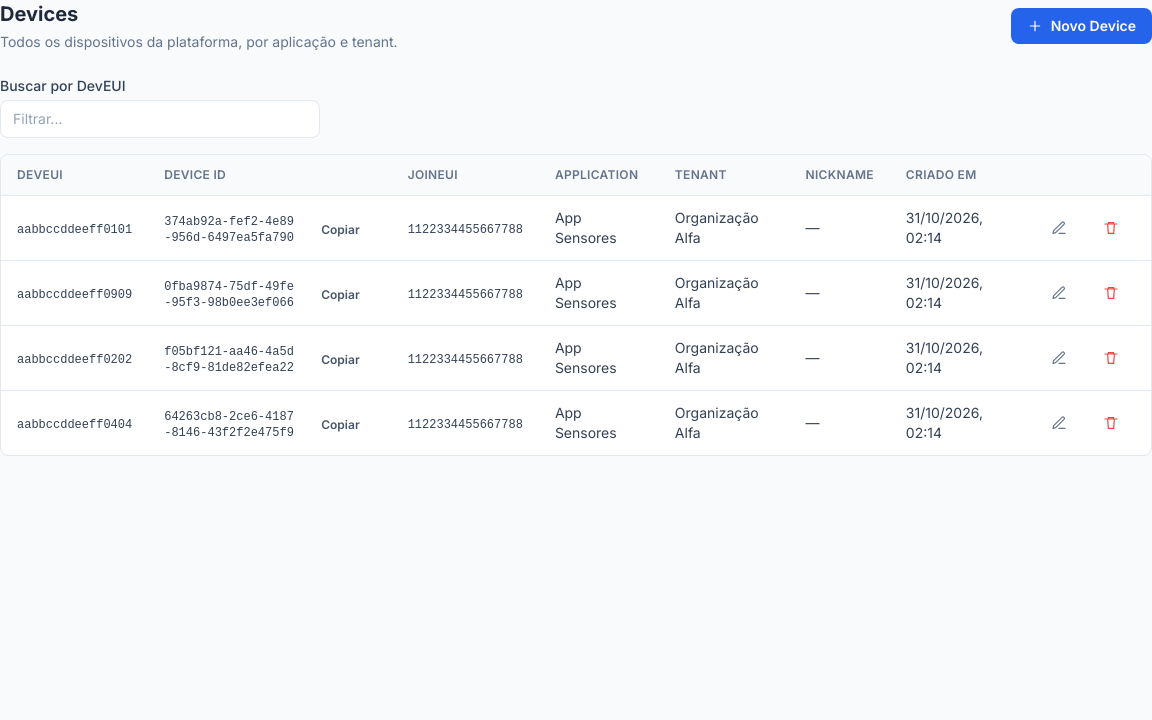
DeviceListPage › surfaces an error when deleting a device fails
Check: the text "aabbccddeeff0404" is shown, box [17, 418, 132, 432]
Click the button named "Excluir device aabbccddeeff0404": (1111, 423) [1087, 407, 1135, 439]
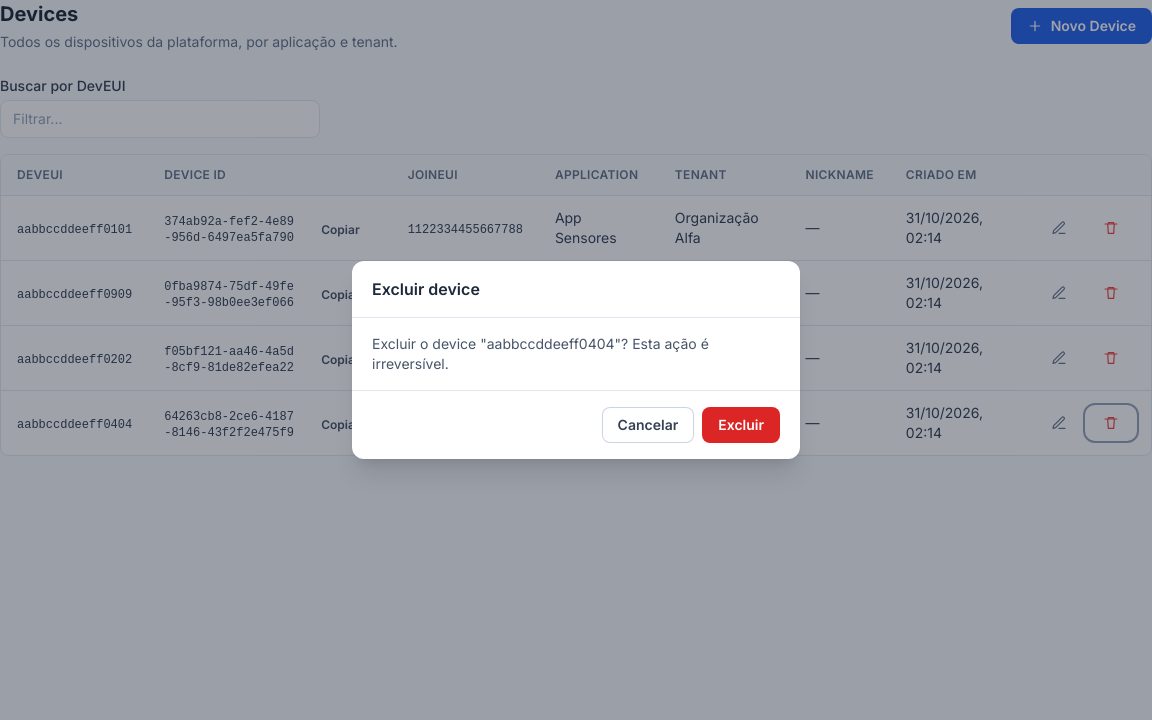
Click the button "Excluir": (741, 425) [702, 407, 780, 443]
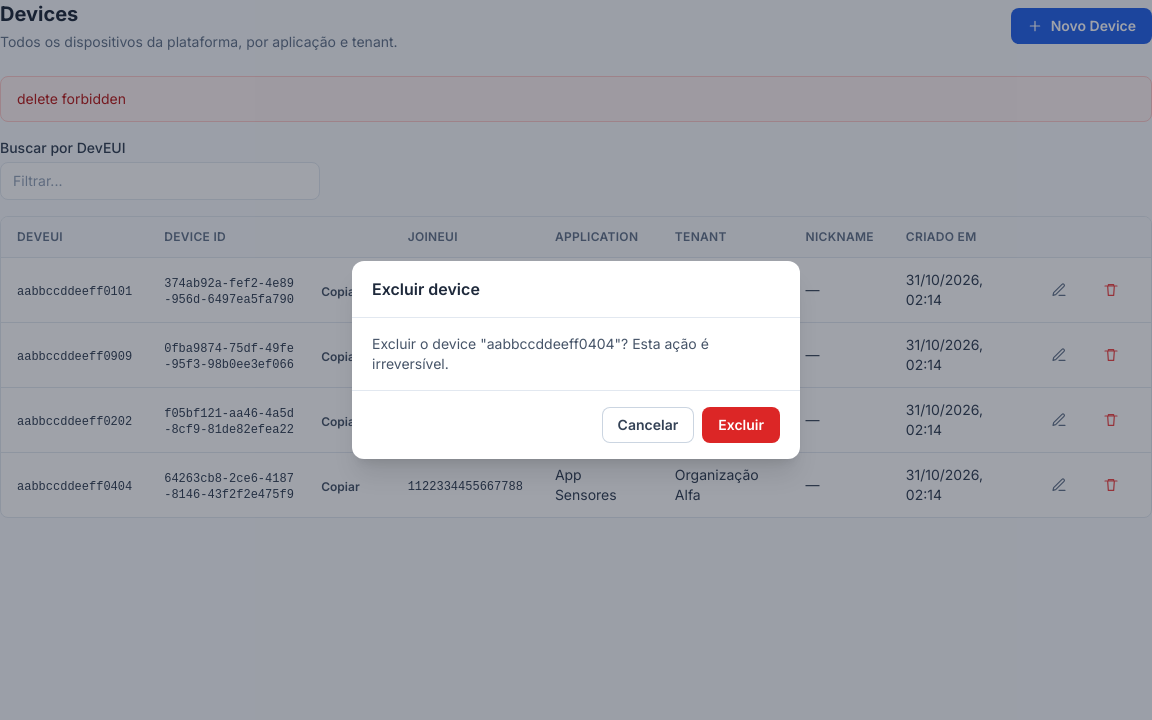
Check: the text "delete forbidden" is shown, box [17, 89, 126, 109]
